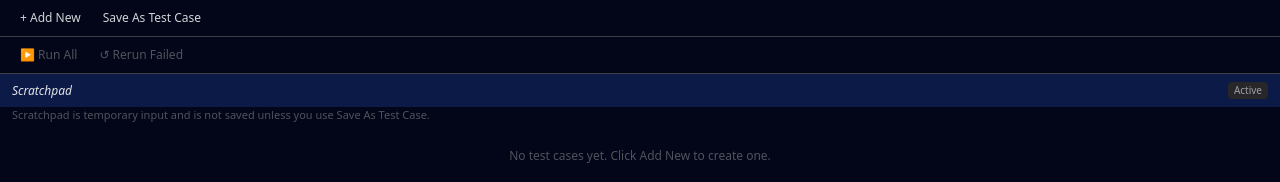
Test case: TestCaseListPanel › clicking Save As shows inline name input
This screenshot has width=1280, height=182.
Click the button with test id "save-as-button" at (152, 18), box top-left (95, 6), bottom-right (209, 30)
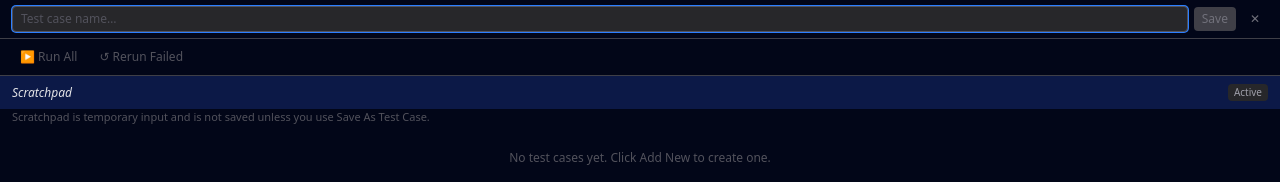
Expected: the element with test id "save-as-form" is shown, top-left (12, 6), bottom-right (1268, 32)
Expected: the field with test id "save-as-name-input" is shown, top-left (12, 6), bottom-right (1188, 32)
